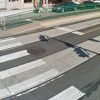crosswalk: (0, 41, 85, 100)
